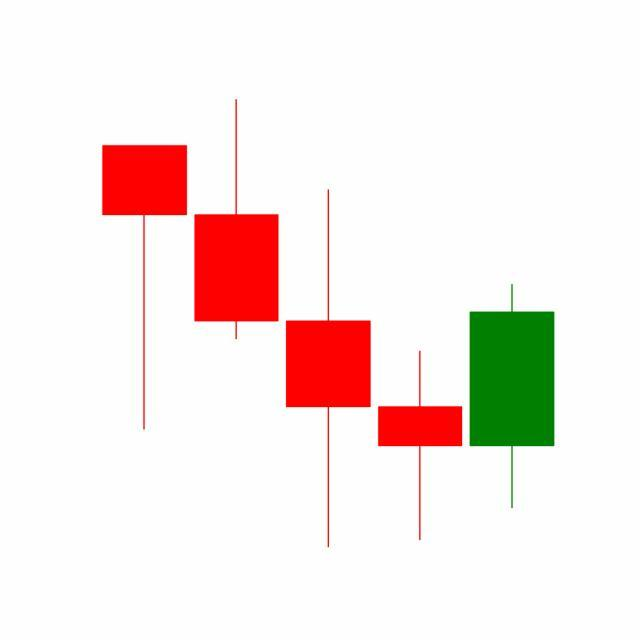Spinning Top: (374, 349, 468, 544)
